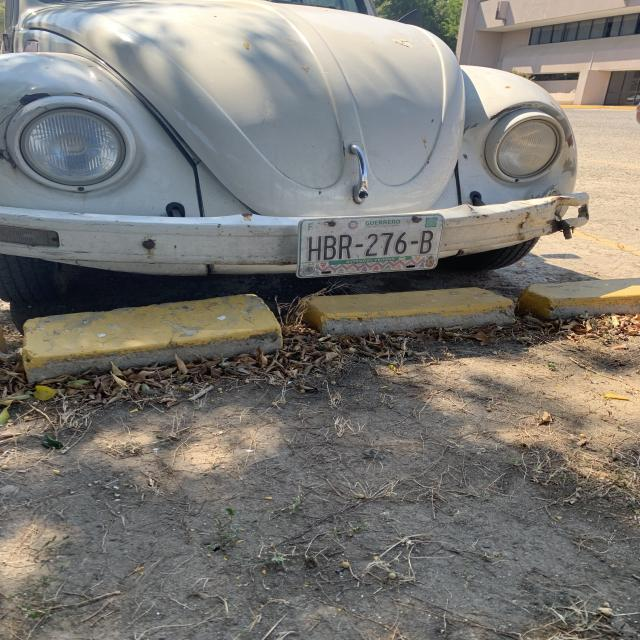placa: (302, 226, 444, 256)
